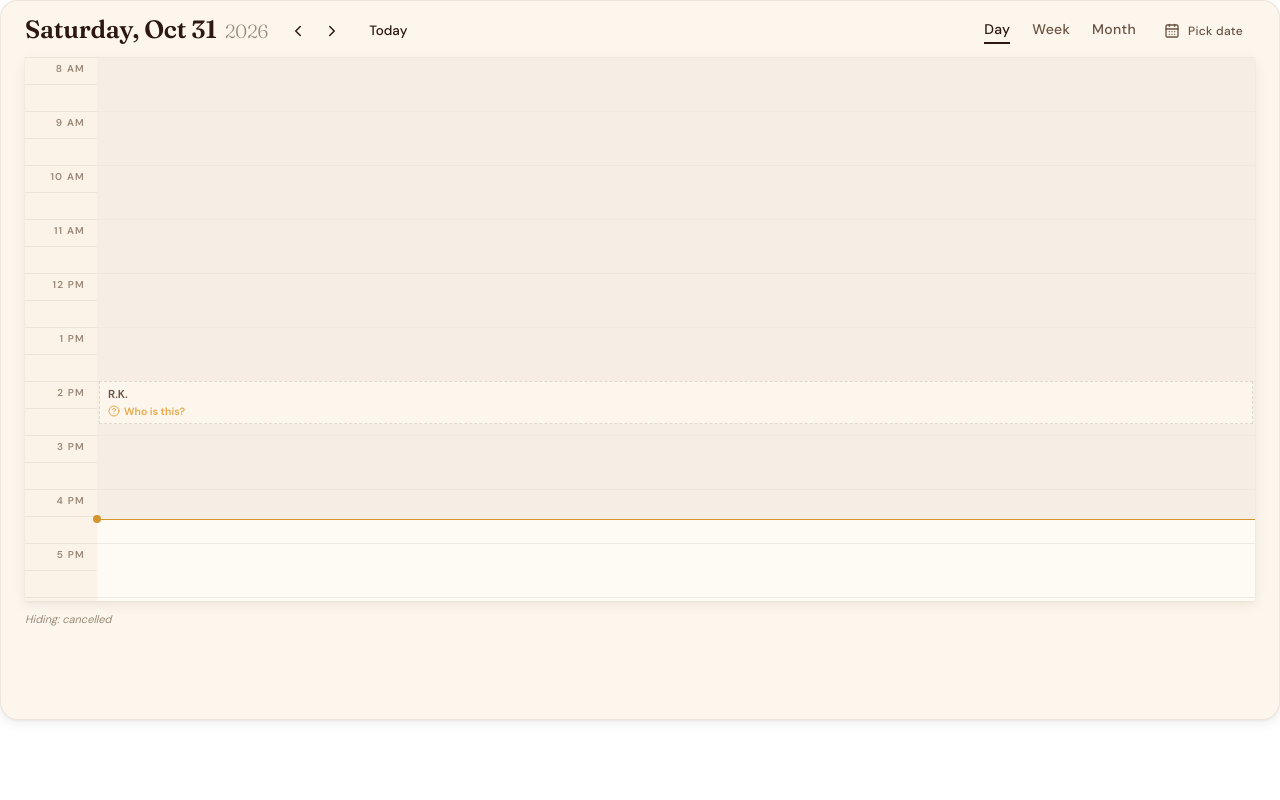
Test case: sessions from the clinician's own calendar › renders an open one as a read-only block marked 'Who is this?' that can't be dragged
The image size is (1280, 800).
(page scrolled)
Check: the text "R.K." is shown, box [108, 386, 128, 402]
Check: the element with test id "outside-session-marker" reads "Who is this?", box [124, 404, 185, 418]
Press the mouse on the button with test id "outside-session" at {"x": 155, "y": 411}, box [99, 381, 1253, 424]
Click the button with test id "outside-session". click: {"x": 155, "y": 411}
box: [99, 381, 1253, 424]
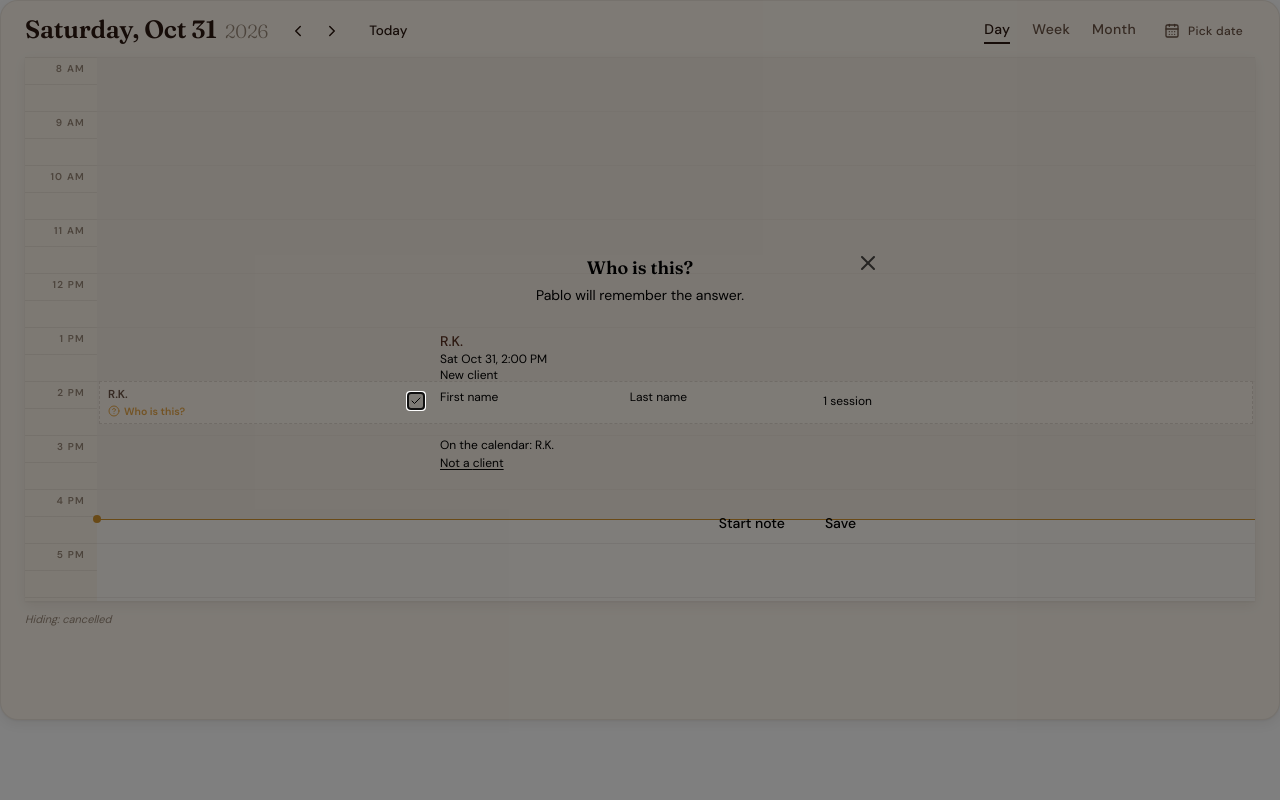
Check: the heading "Who is this?" is shown, box [587, 256, 693, 279]
Check: the button "Start note" is shown, box [703, 505, 801, 541]
